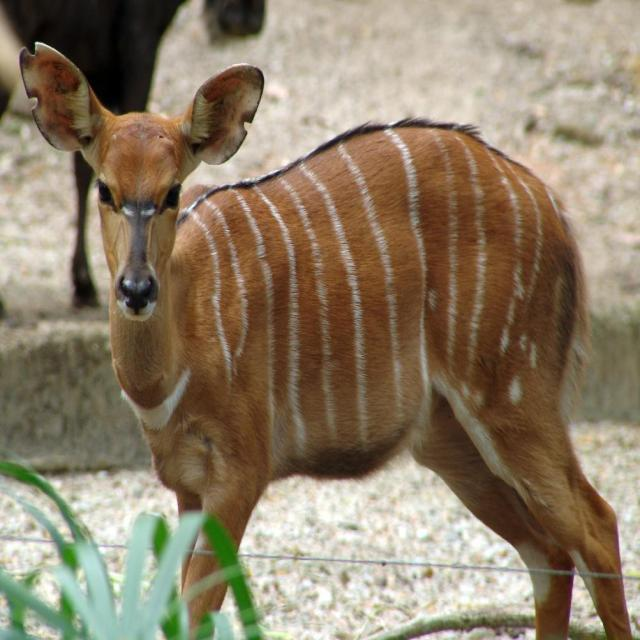Deer: (21, 39, 634, 639)
